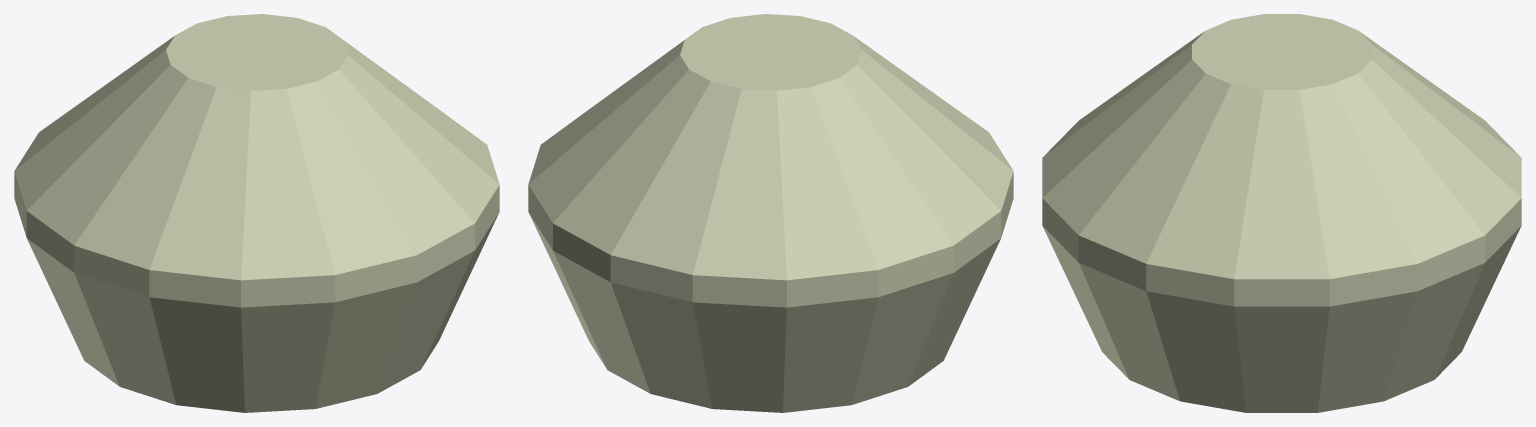
File: Alniyat_Crew_1_Collider.obj
3 renders of one model, left to right at view 1: azimuth 30°, elevation 25°; view 2: azimuth 150°, elevation 25°; view 3: azimuth 270°, elevation 25°, orthographic.
Visible parts, largest first — view 1: Alniyat_Crew_1_Collider; view 2: Alniyat_Crew_1_Collider; view 3: Alniyat_Crew_1_Collider.
Part boxes in pixels (x1,y1,x2,y2): Alniyat_Crew_1_Collider: (14,14,499,412); Alniyat_Crew_1_Collider: (528,14,1013,412); Alniyat_Crew_1_Collider: (1042,14,1521,412).
Size of the model in its own units: 2.5 by 1.64 by 2.5.
